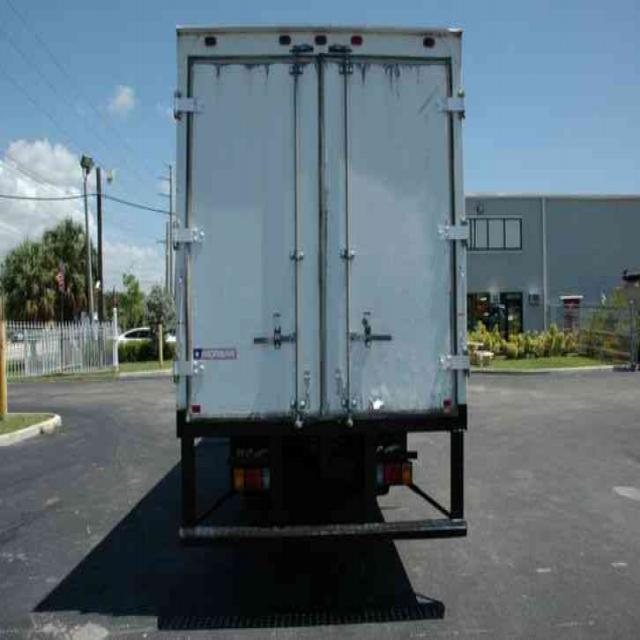truck: (172, 26, 468, 548)
